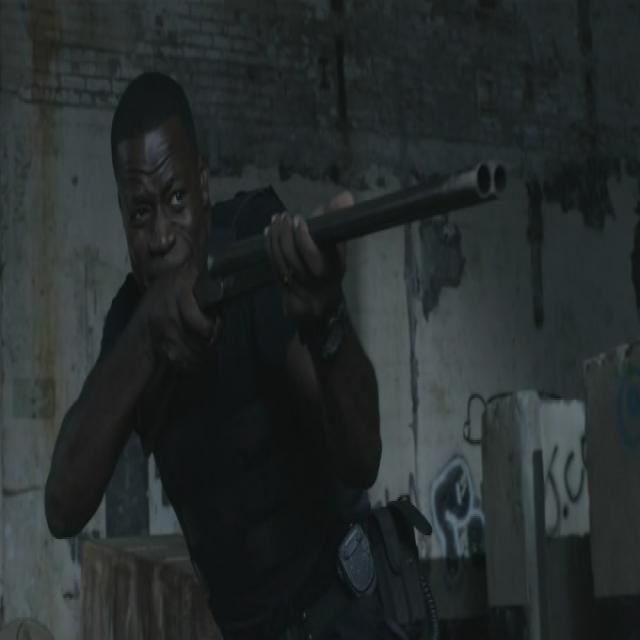rifle: (191, 152, 513, 314)
